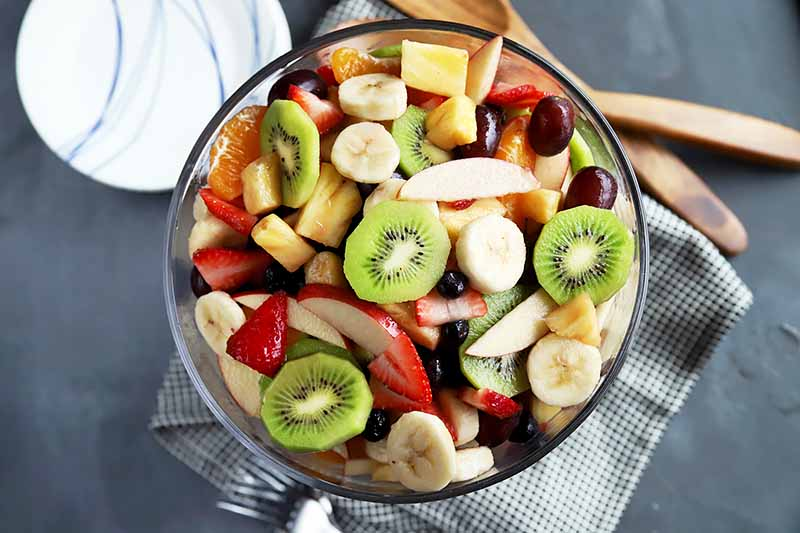apple: (296, 286, 399, 354)
